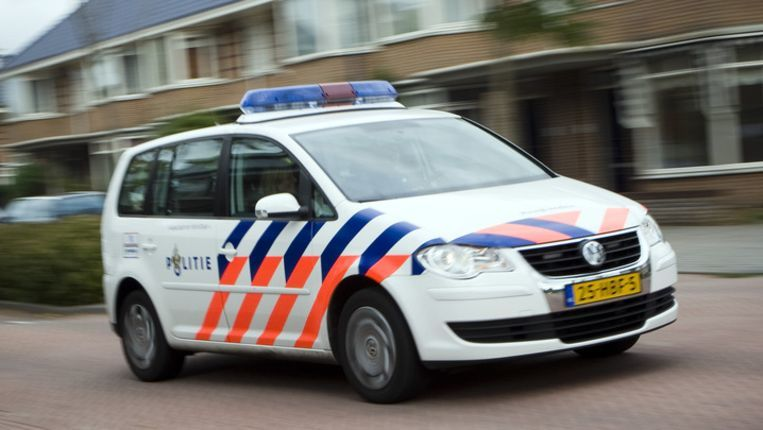kenteken: (566, 269, 642, 305)
